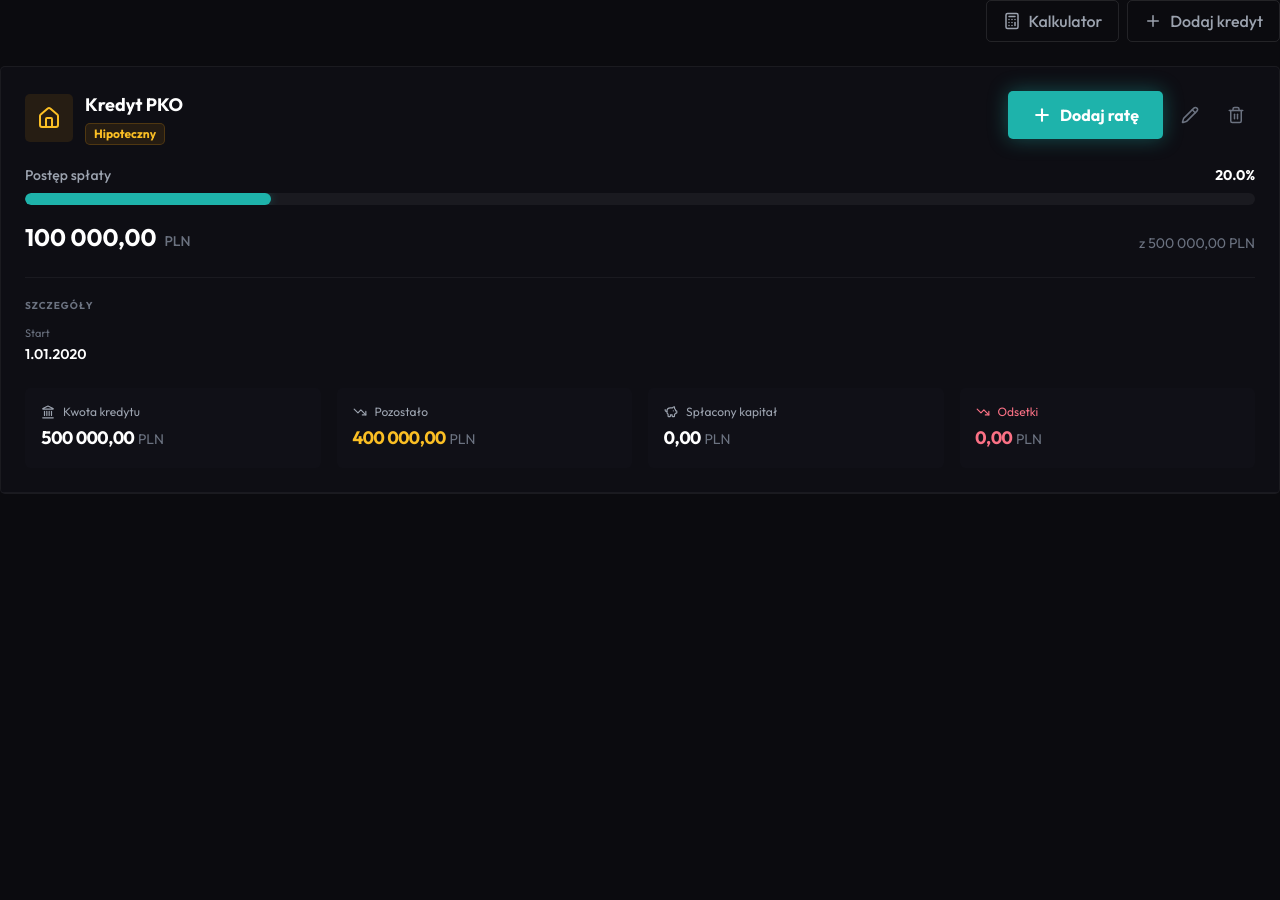
Scenario: Mortgage — handleAddPayment (walidacja B7) › część kapitałowa > rata → toast, brak POST
This screenshot has width=1280, height=900.
Click the button "Dodaj ratę": {"x": 1086, "y": 115} top-left (1008, 91), bottom-right (1163, 139)
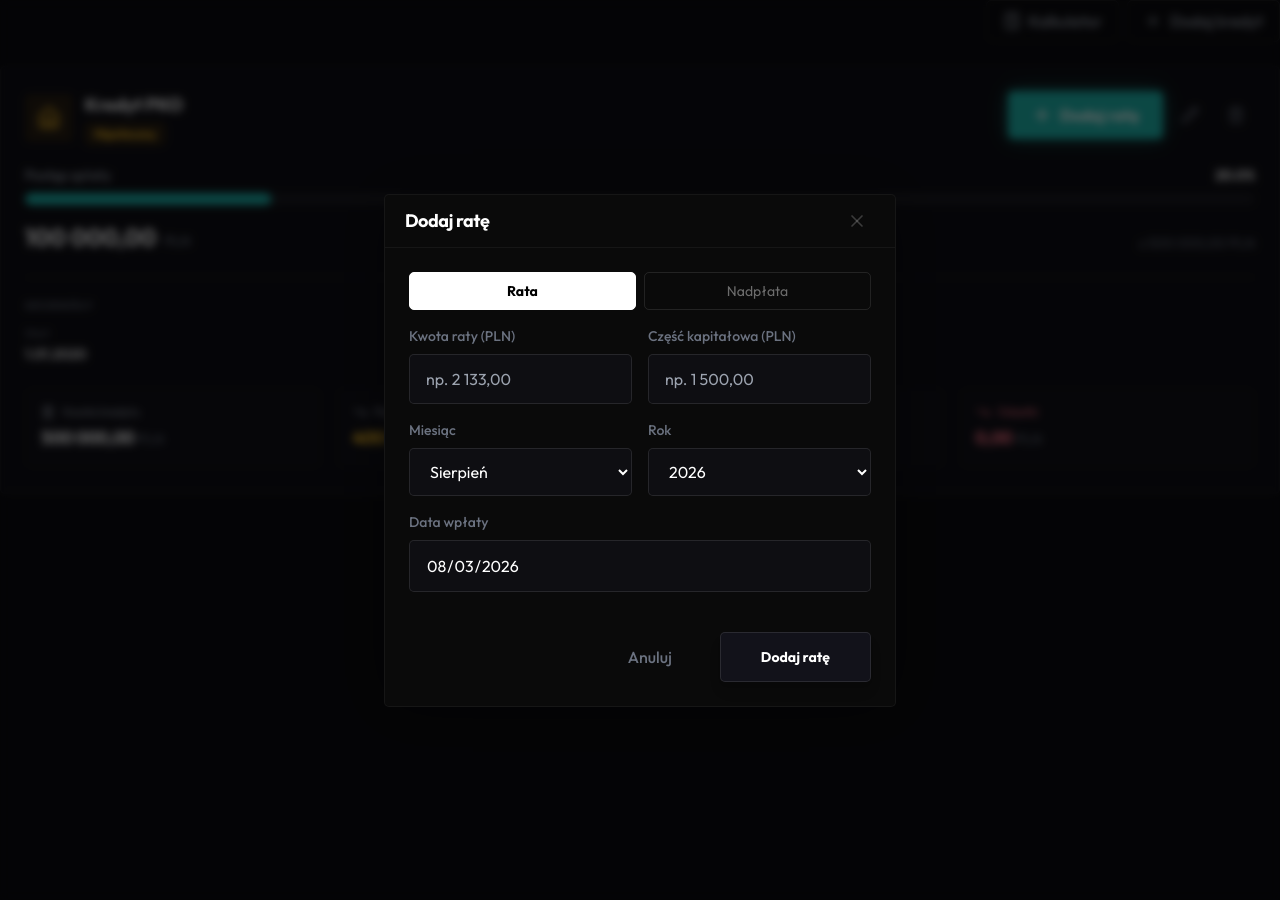
Result: the number field with placeholder "np. 2 133,00" is shown
In the number field with placeholder "np. 2 133,00": {"x": 520, "y": 378} top-left (409, 354), bottom-right (632, 404), type "1000"
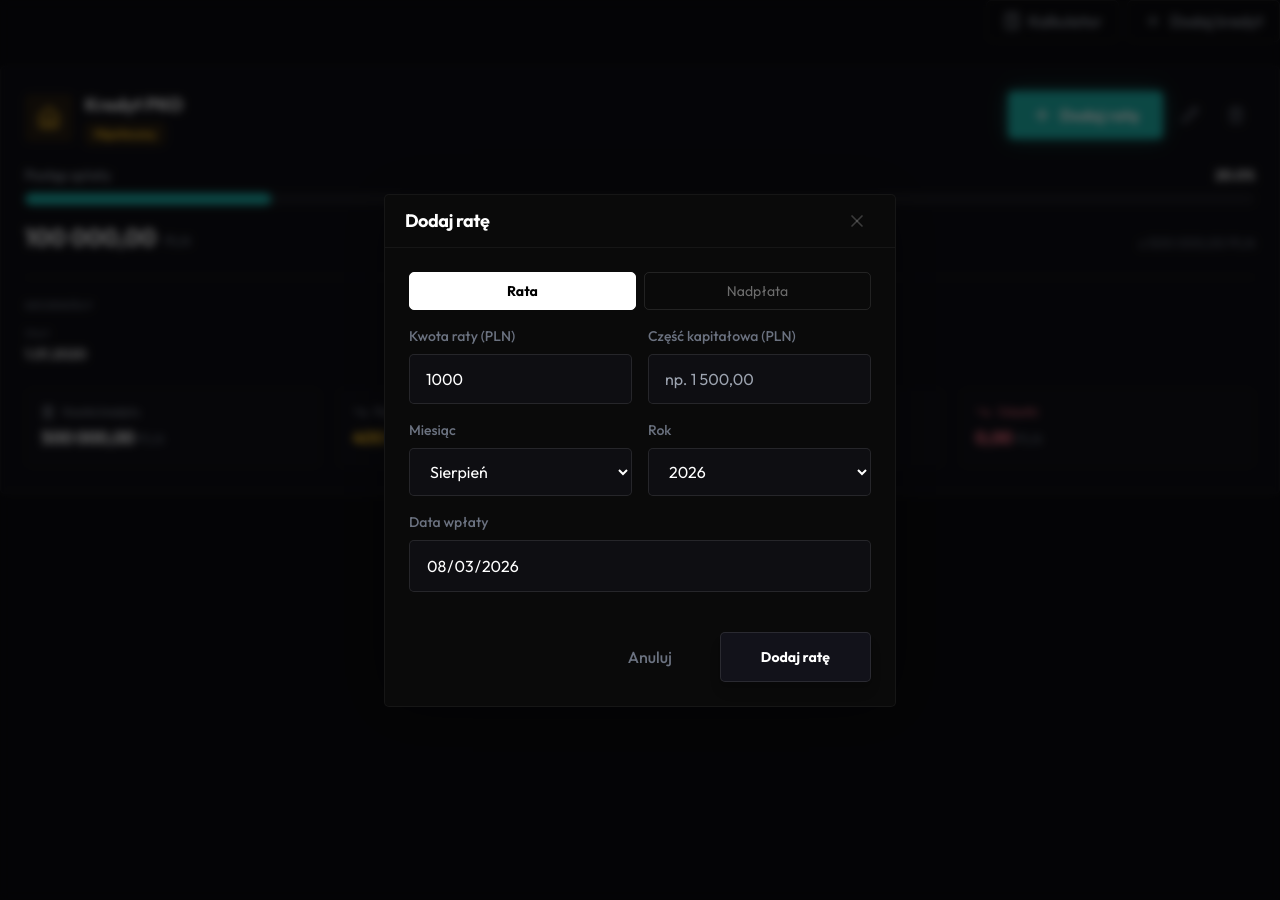
In the number field with placeholder "np. 1 500,00": {"x": 760, "y": 378} top-left (648, 354), bottom-right (871, 404), type "2000"
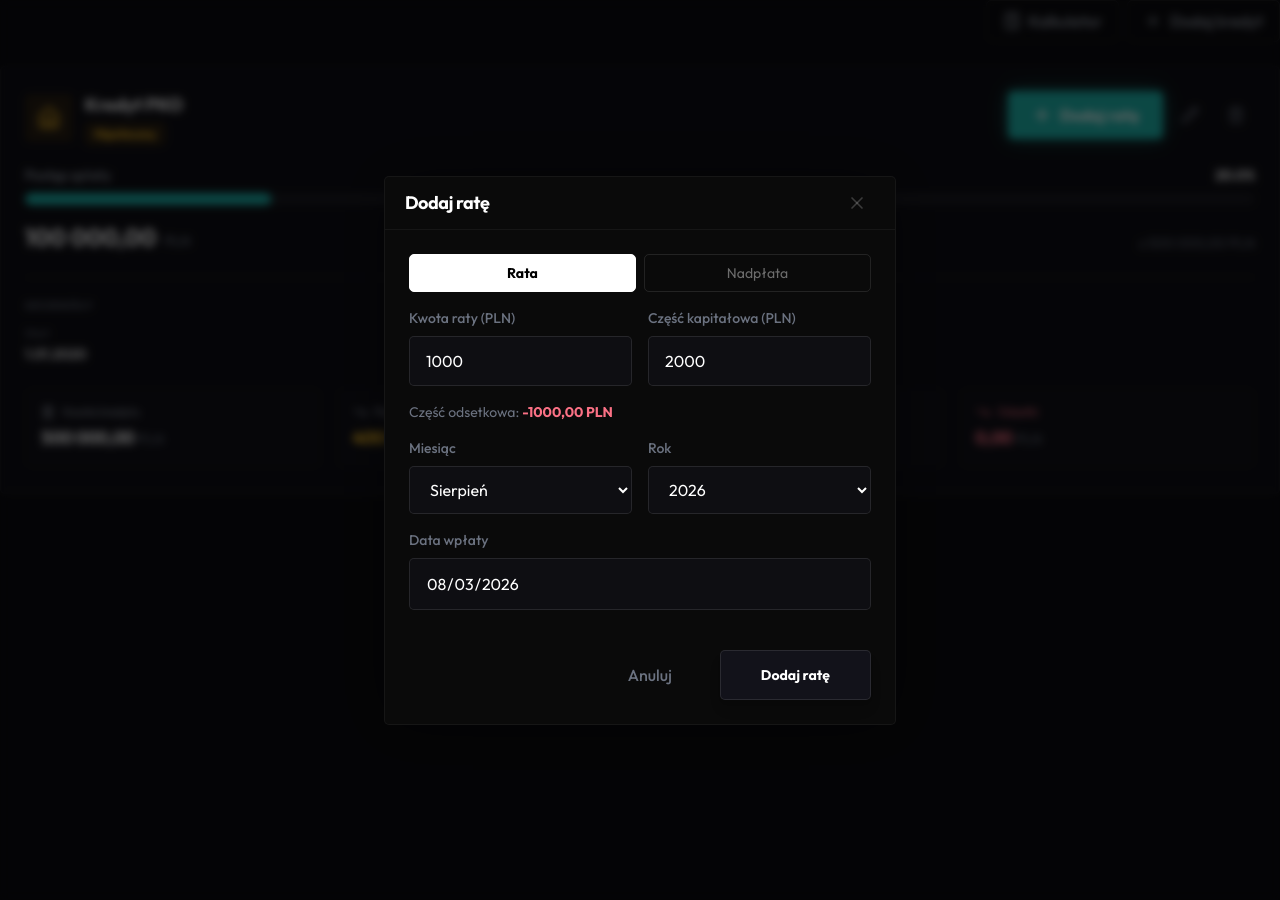
Click the button "Dodaj ratę": {"x": 795, "y": 674} top-left (720, 650), bottom-right (871, 700)
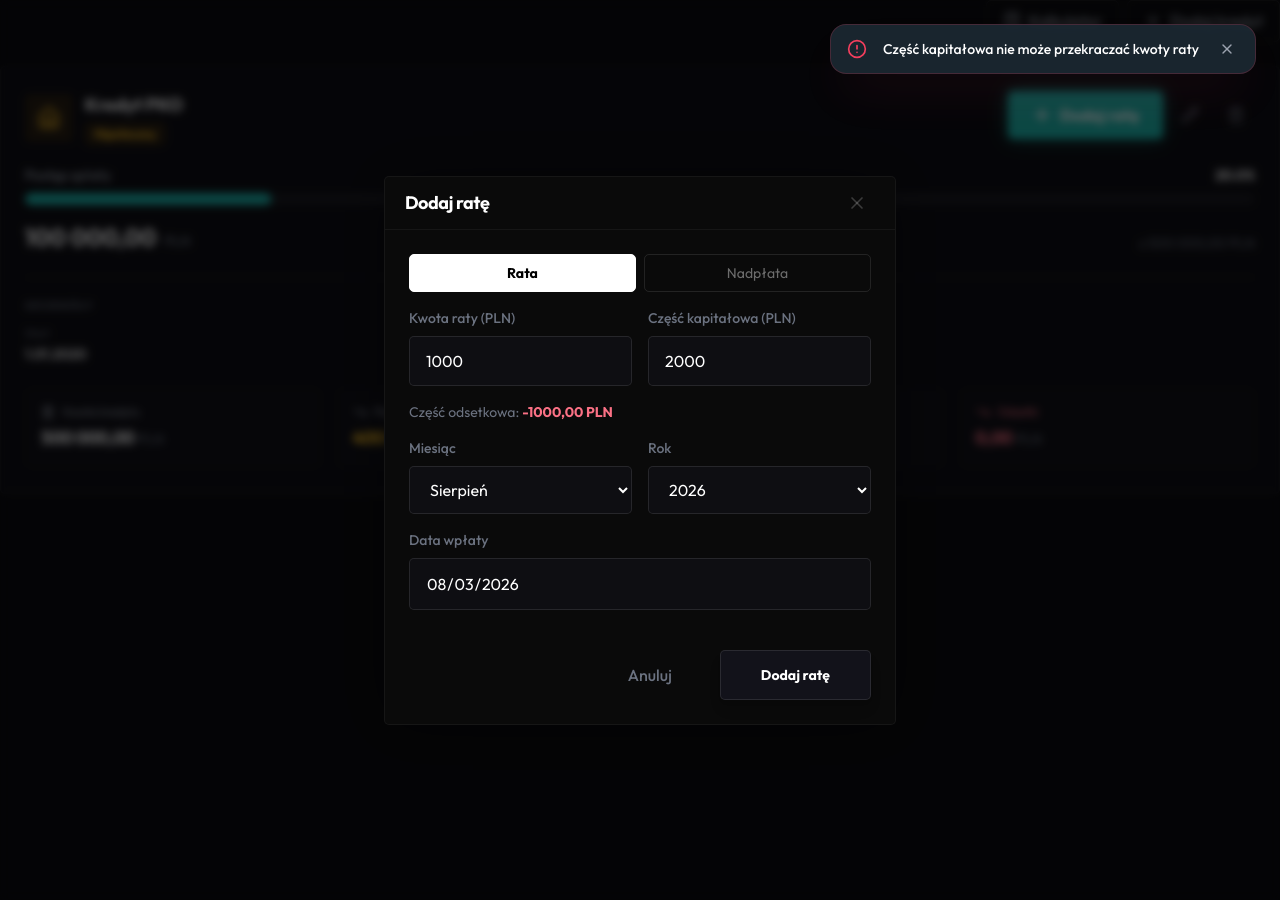
Result: the text "Część kapitałowa nie może przekraczać kwoty raty" is shown at top-left (883, 39), bottom-right (1199, 59)
